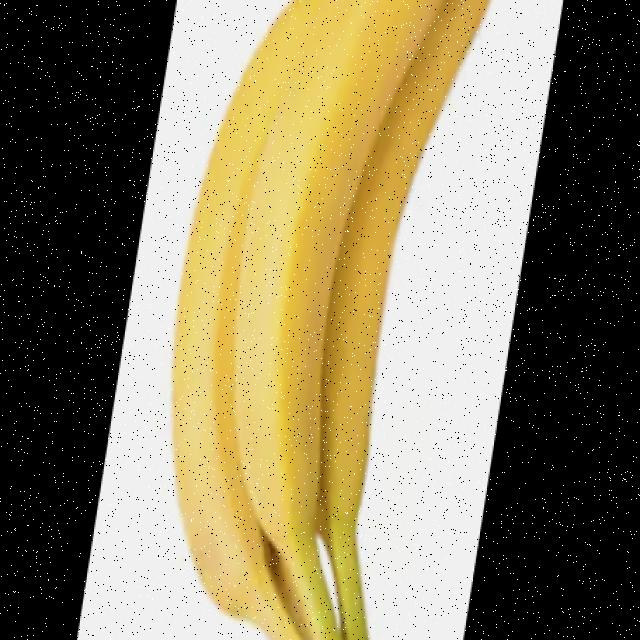god quality banana: (174, 0, 488, 640)
